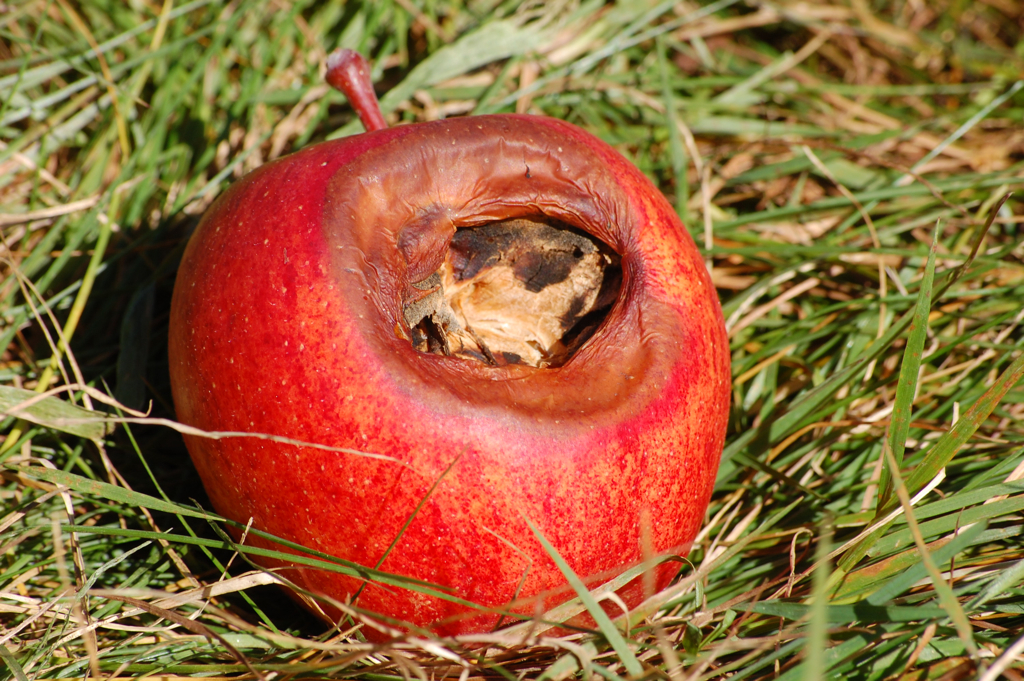Apple: (202, 83, 725, 650)
